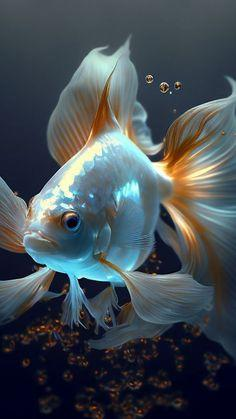goldfish: (11, 103, 233, 329)
